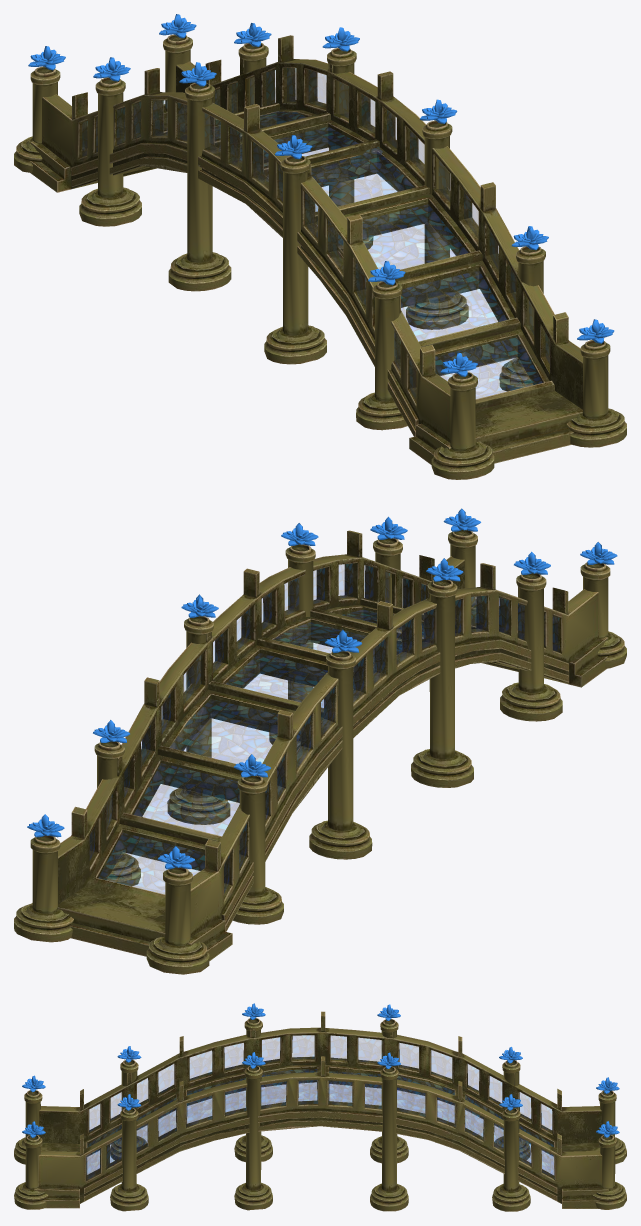
Rendered from bridgeWhole_lowPolyCompressed.glb.
3 views of the same model, one above another, from view 1: azimuth 30°, elevation 25°; view 2: azimuth 150°, elevation 25°; view 3: azimuth 270°, elevation 25° (orthographic). The views are drawn at different scales.
Visible parts, largest first — view 1: Mesh_168.018; view 2: Mesh_168.018; view 3: Mesh_168.018.
Part boxes in pixels (box(x1,y1,x2,y2)): Mesh_168.018: box(14, 14, 626, 479); Mesh_168.018: box(14, 508, 626, 974); Mesh_168.018: box(14, 1003, 626, 1211).
Bounding box in the file's own units: 1.35 × 1.39 × 5.14.
5 materials, 4 textured.
